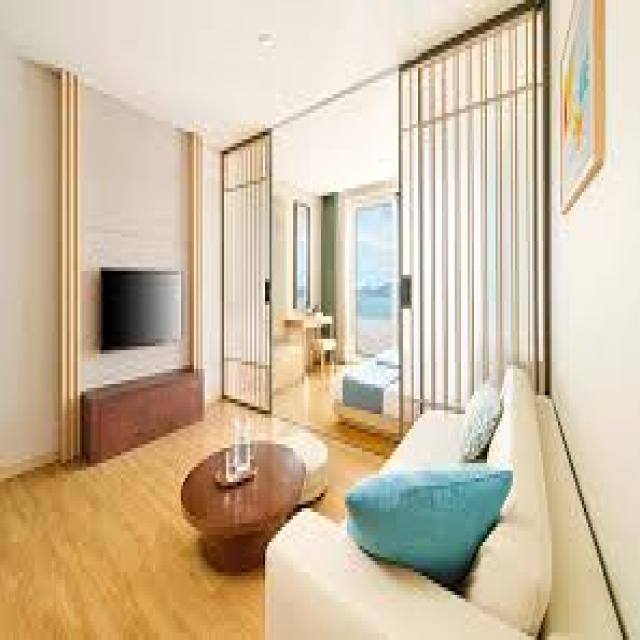Sofa: (280, 369, 610, 640)
Table: (174, 434, 311, 558)
tv: (100, 264, 186, 352)
